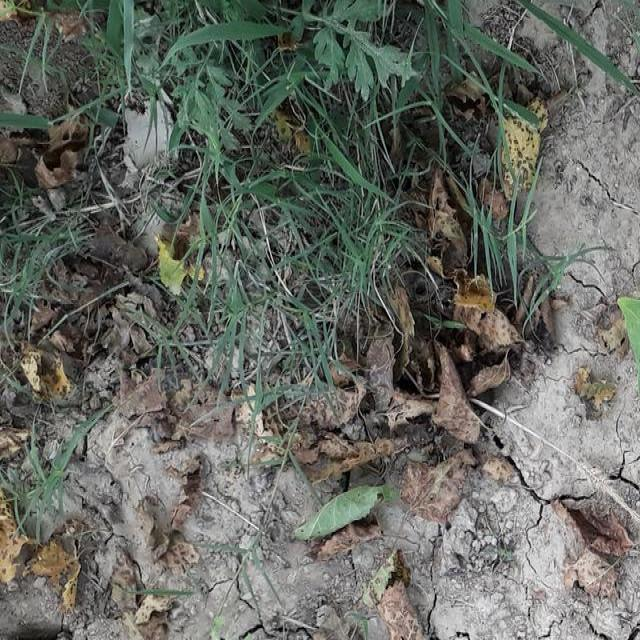weed: (272, 11, 475, 126), (89, 0, 291, 112)
